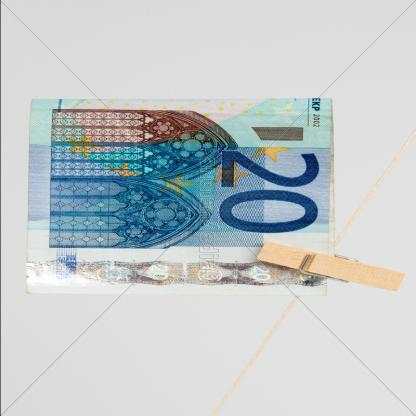euro_banknote: (29, 95, 337, 295)
